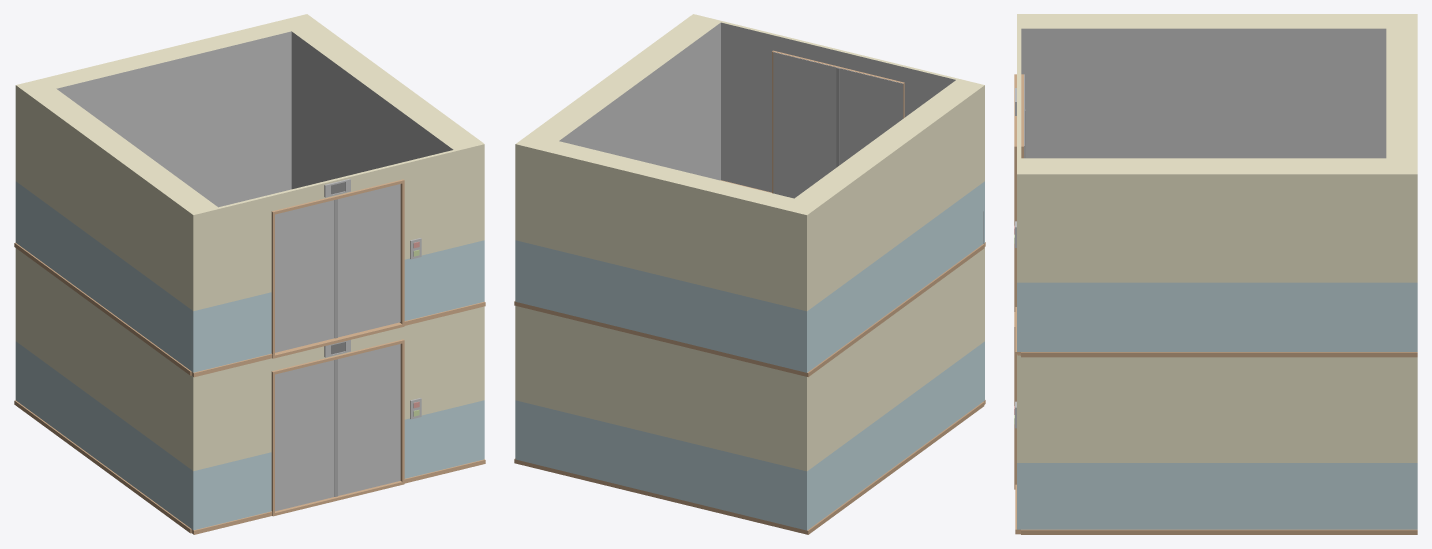
The model's file is elevator.fbx.
The picture shows the model from 3 angles, left to right: view 1: azimuth 30°, elevation 25°; view 2: azimuth 150°, elevation 25°; view 3: azimuth 270°, elevation 25°; orthographic projection. The views are drawn at different scales.
Visible parts, largest first — view 1: Boole_5, Cube_16, Cube_16_2, Cube_12, Cube_12_2; view 2: Boole_5, Cube_16, Cube_12; view 3: Boole_5.
Boxes of the visible parts, bbox=[...] form: Boole_5: bbox=[14, 14, 485, 534]; Cube_16: bbox=[334, 184, 400, 338]; Cube_16_2: bbox=[334, 344, 400, 496]; Cube_12: bbox=[275, 200, 337, 352]; Cube_12_2: bbox=[275, 360, 337, 511]; Boole_5: bbox=[514, 14, 985, 534]; Cube_16: bbox=[773, 52, 839, 198]; Cube_12: bbox=[836, 68, 903, 166]; Boole_5: bbox=[1014, 14, 1417, 534].
Bounding box in the file's own units: 173 × 179 × 182.
